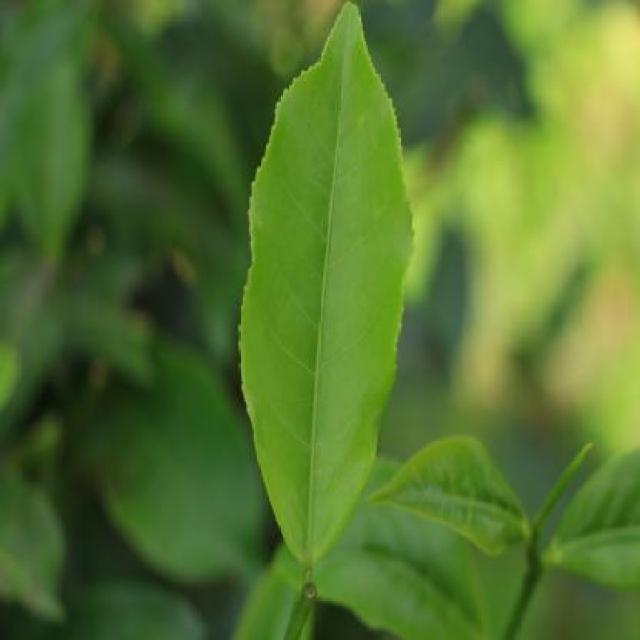Tea leaf: (232, 4, 420, 574)
